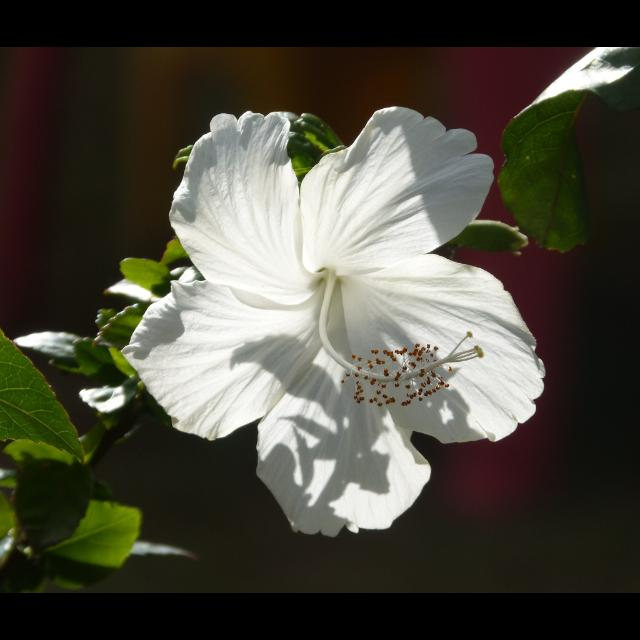Flower: (144, 56, 592, 566)
